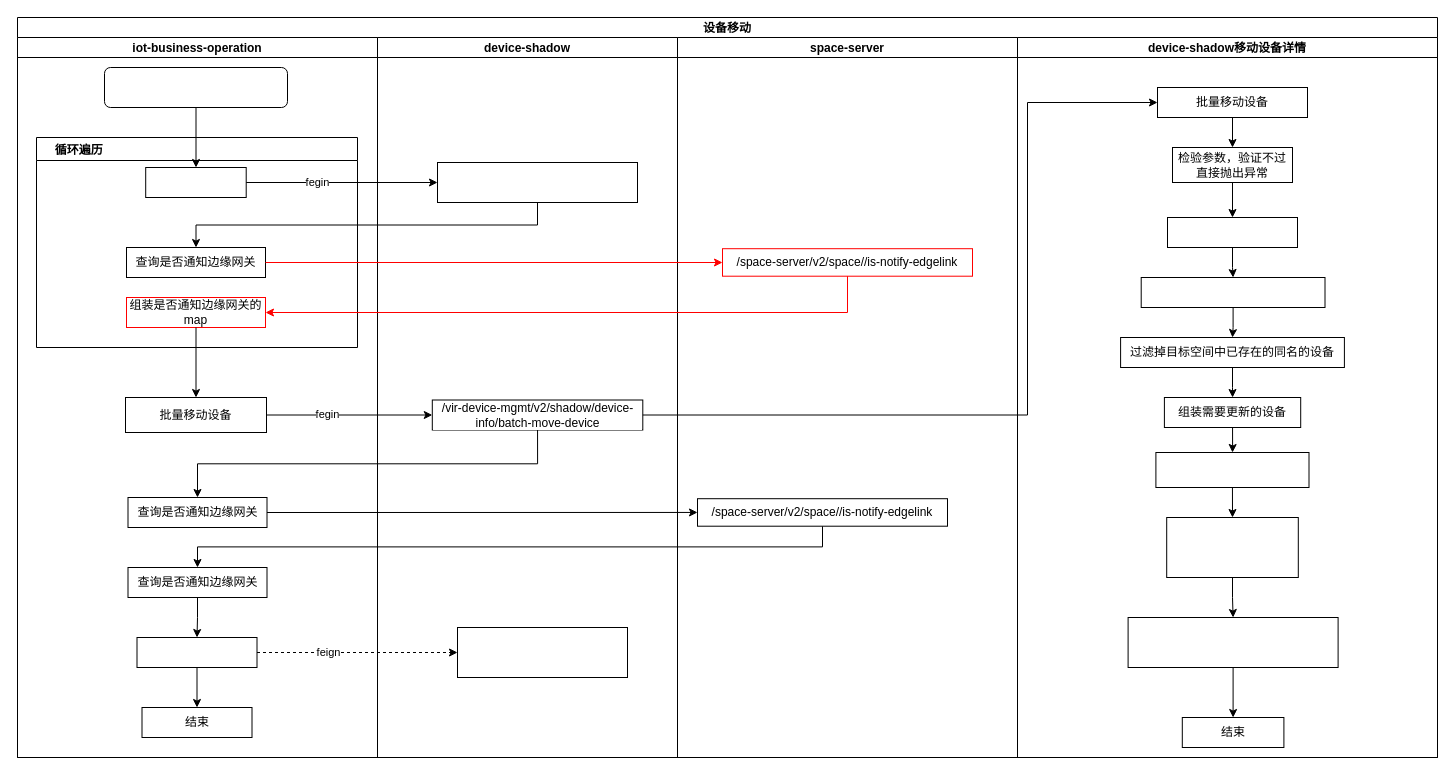
This 1455x775 diagram has some shape labels left out. Here are the shapes that lost their labels. From the top down, the centre of each, then its label:
(x=196, y=87): /API/tech-mgmt/v2/business-device-shadow/device/batchMove
(x=195, y=182): 查询设备信息
(x=537, y=182): /vir-device-mgmt/v2/shadow/device-info/get-by-id/{entityId}
(x=1232, y=232): 批量查询设备详情
(x=1232, y=292): 查询目标空间是否有同名设备
(x=1232, y=470): 批量更新设备的空间信息
(x=1232, y=547): 无法移动的设备构造失败返回信息（目标同名设备无法移动）
(x=196, y=652): 异步通知边缘网关
(x=542, y=652): /vir-device-mgmt/v2/shadow/edgelink-syn/syncDataToEdgelink
(x=1232, y=642): 循环 发送设备修改信息到kafka topic：iot.device.operator.topic
